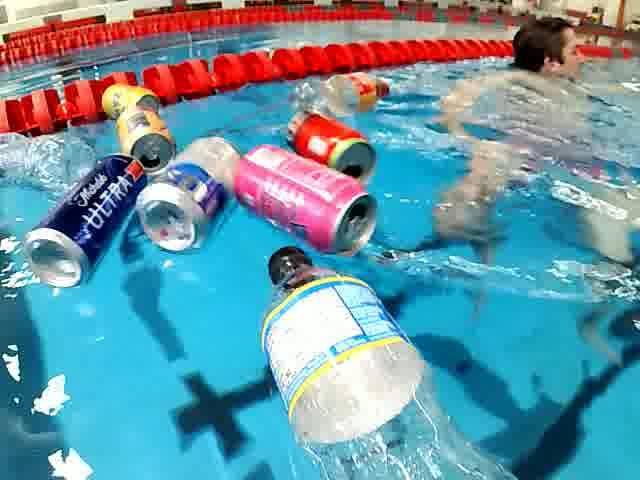Bottle: (253, 235, 516, 480), (0, 129, 92, 193), (280, 72, 400, 118)
Can: (232, 142, 386, 258), (19, 155, 147, 293), (130, 138, 247, 257), (280, 105, 384, 185), (112, 104, 182, 170), (99, 84, 167, 118)
